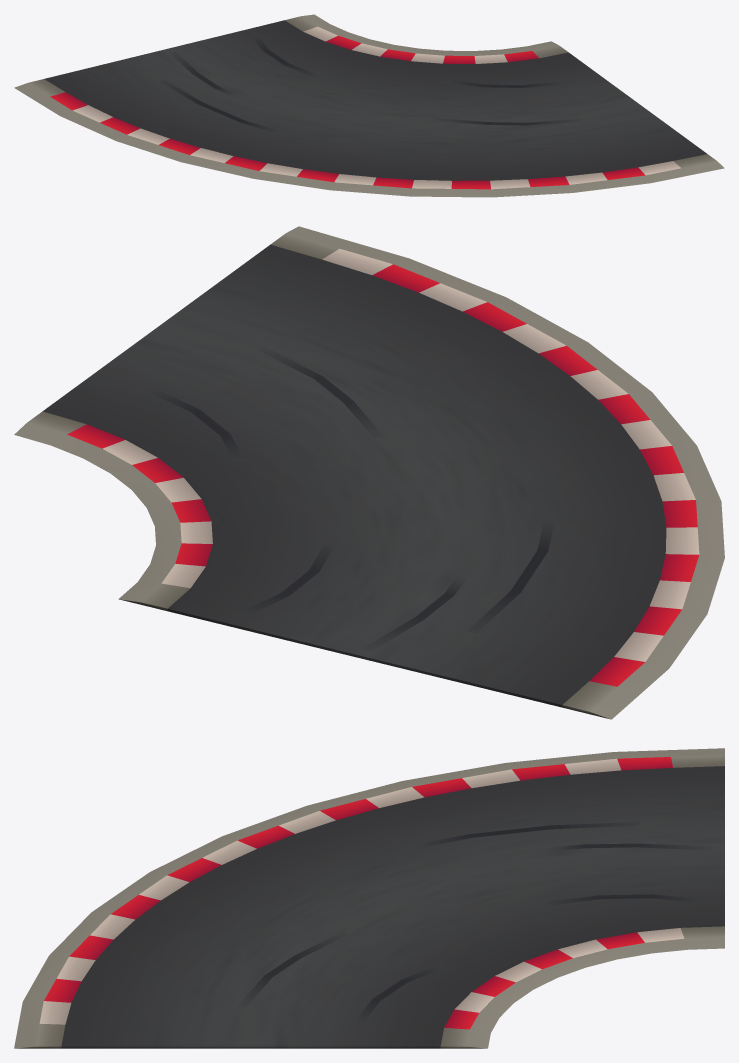
3 renders of one model, top to bottom at view 1: azimuth 30°, elevation 25°; view 2: azimuth 150°, elevation 25°; view 3: azimuth 270°, elevation 25°, orthographic. The views are drawn at different scales.
Parts seen in each view (by area): view 1: Curve_1A, Curve_1A_Skidmarks; view 2: Curve_1A, Curve_1A_Skidmarks; view 3: Curve_1A, Curve_1A_Skidmarks.
Boxes of the visible parts, bbox=[...] form: Curve_1A: bbox=[14, 14, 724, 197]; Curve_1A_Skidmarks: bbox=[159, 34, 580, 133]; Curve_1A: bbox=[14, 226, 724, 719]; Curve_1A_Skidmarks: bbox=[150, 347, 554, 651]; Curve_1A: bbox=[14, 748, 724, 1048]; Curve_1A_Skidmarks: bbox=[238, 822, 712, 1021].
Bounding box in the file's own units: 30 × 0.104 × 30.
1 material, 1 textured.
